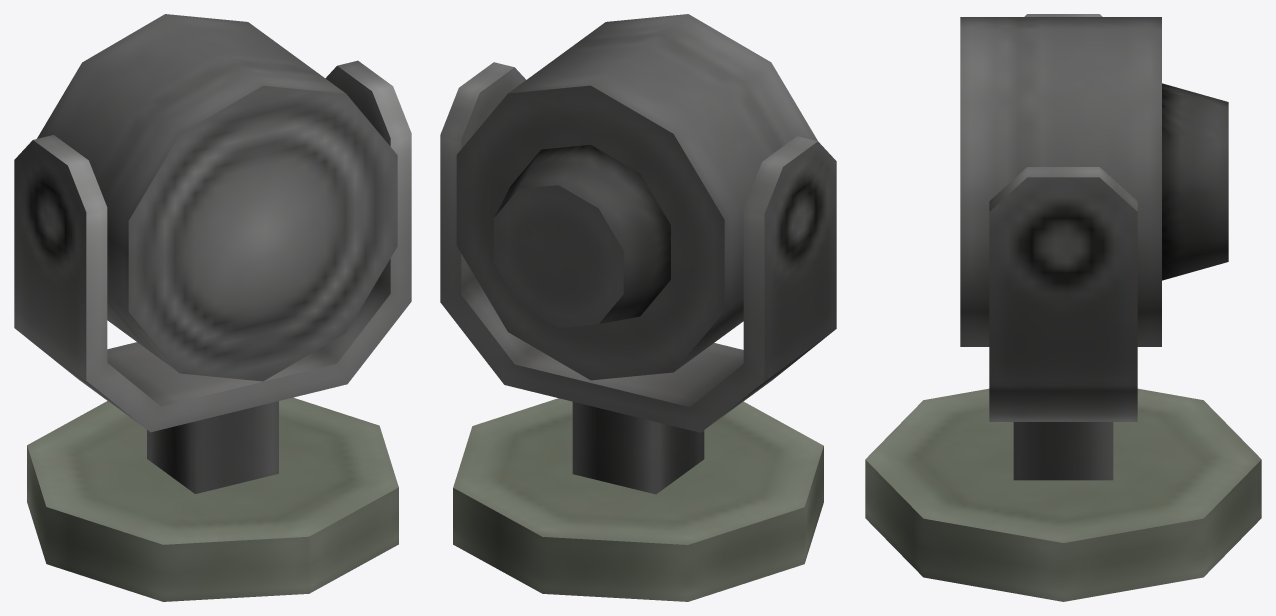
The model's file is Projector.FBX.
3 views of the same model, side by side, from view 1: azimuth 30°, elevation 25°; view 2: azimuth 150°, elevation 25°; view 3: azimuth 270°, elevation 25° (orthographic). The views are drawn at different scales.
Parts seen in each view (by area): view 1: Projector, Projector_Platform, Projector_Base; view 2: Projector, Projector_Platform, Projector_Base; view 3: Projector_Platform, Projector, Projector_Base.
Part boxes in pixels (box(x1,y1,x2,y2)): Projector: box(37, 14, 397, 381); Projector_Platform: box(27, 397, 398, 601); Projector_Base: box(14, 60, 411, 493); Projector: box(456, 14, 817, 380); Projector_Platform: box(453, 398, 823, 601); Projector_Base: box(440, 62, 836, 494); Projector_Platform: box(865, 388, 1261, 601); Projector: box(960, 17, 1228, 346); Projector_Base: box(989, 14, 1137, 480).
Bounding box in the file's own units: 157 × 214 × 157.
